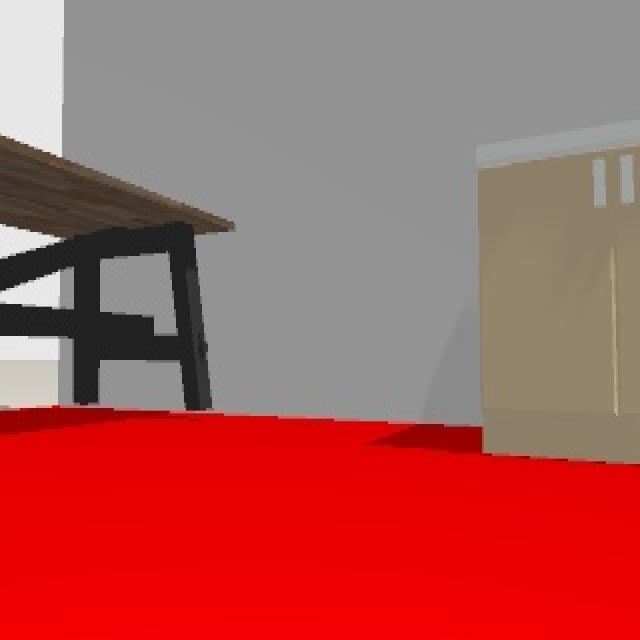dining: (0, 133, 235, 414)
